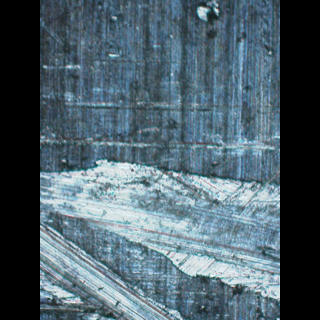d: (41, 151, 279, 319), (191, 0, 225, 37)
